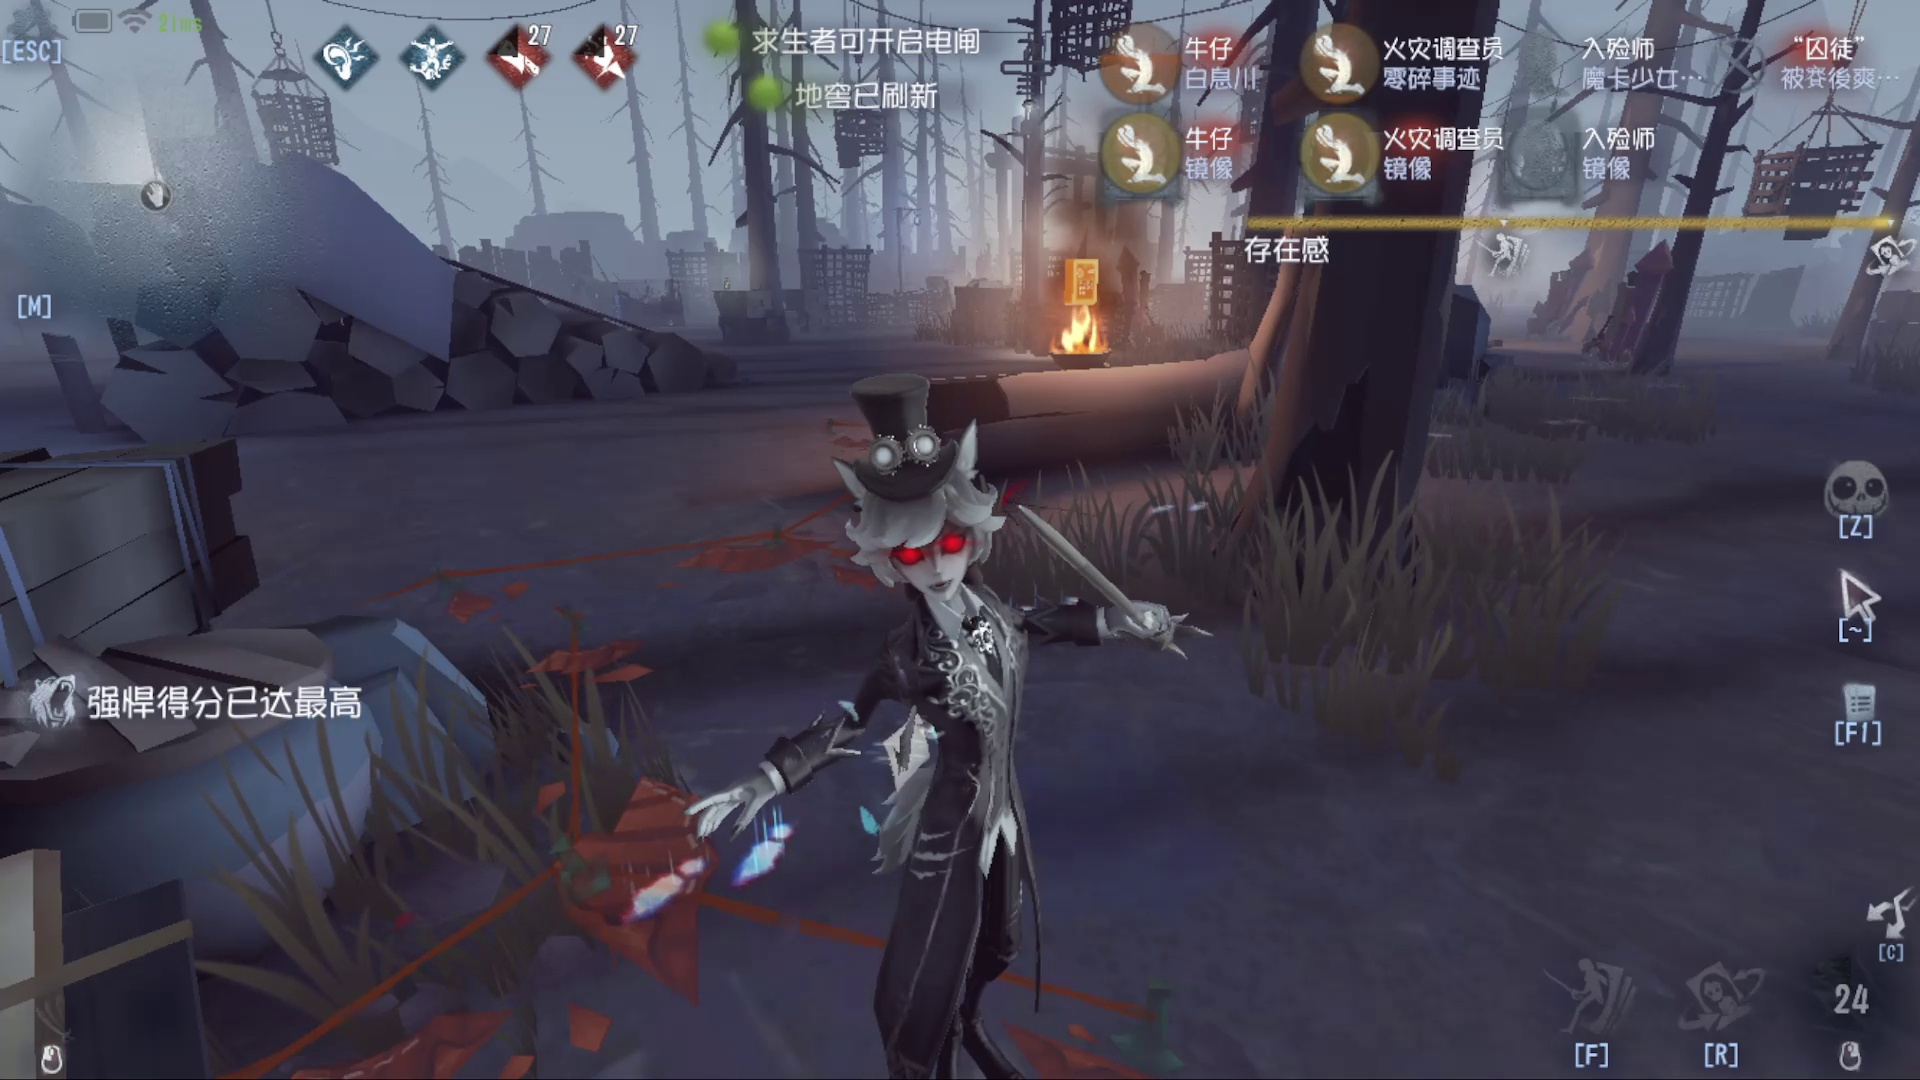木板: (431, 475, 836, 696)
